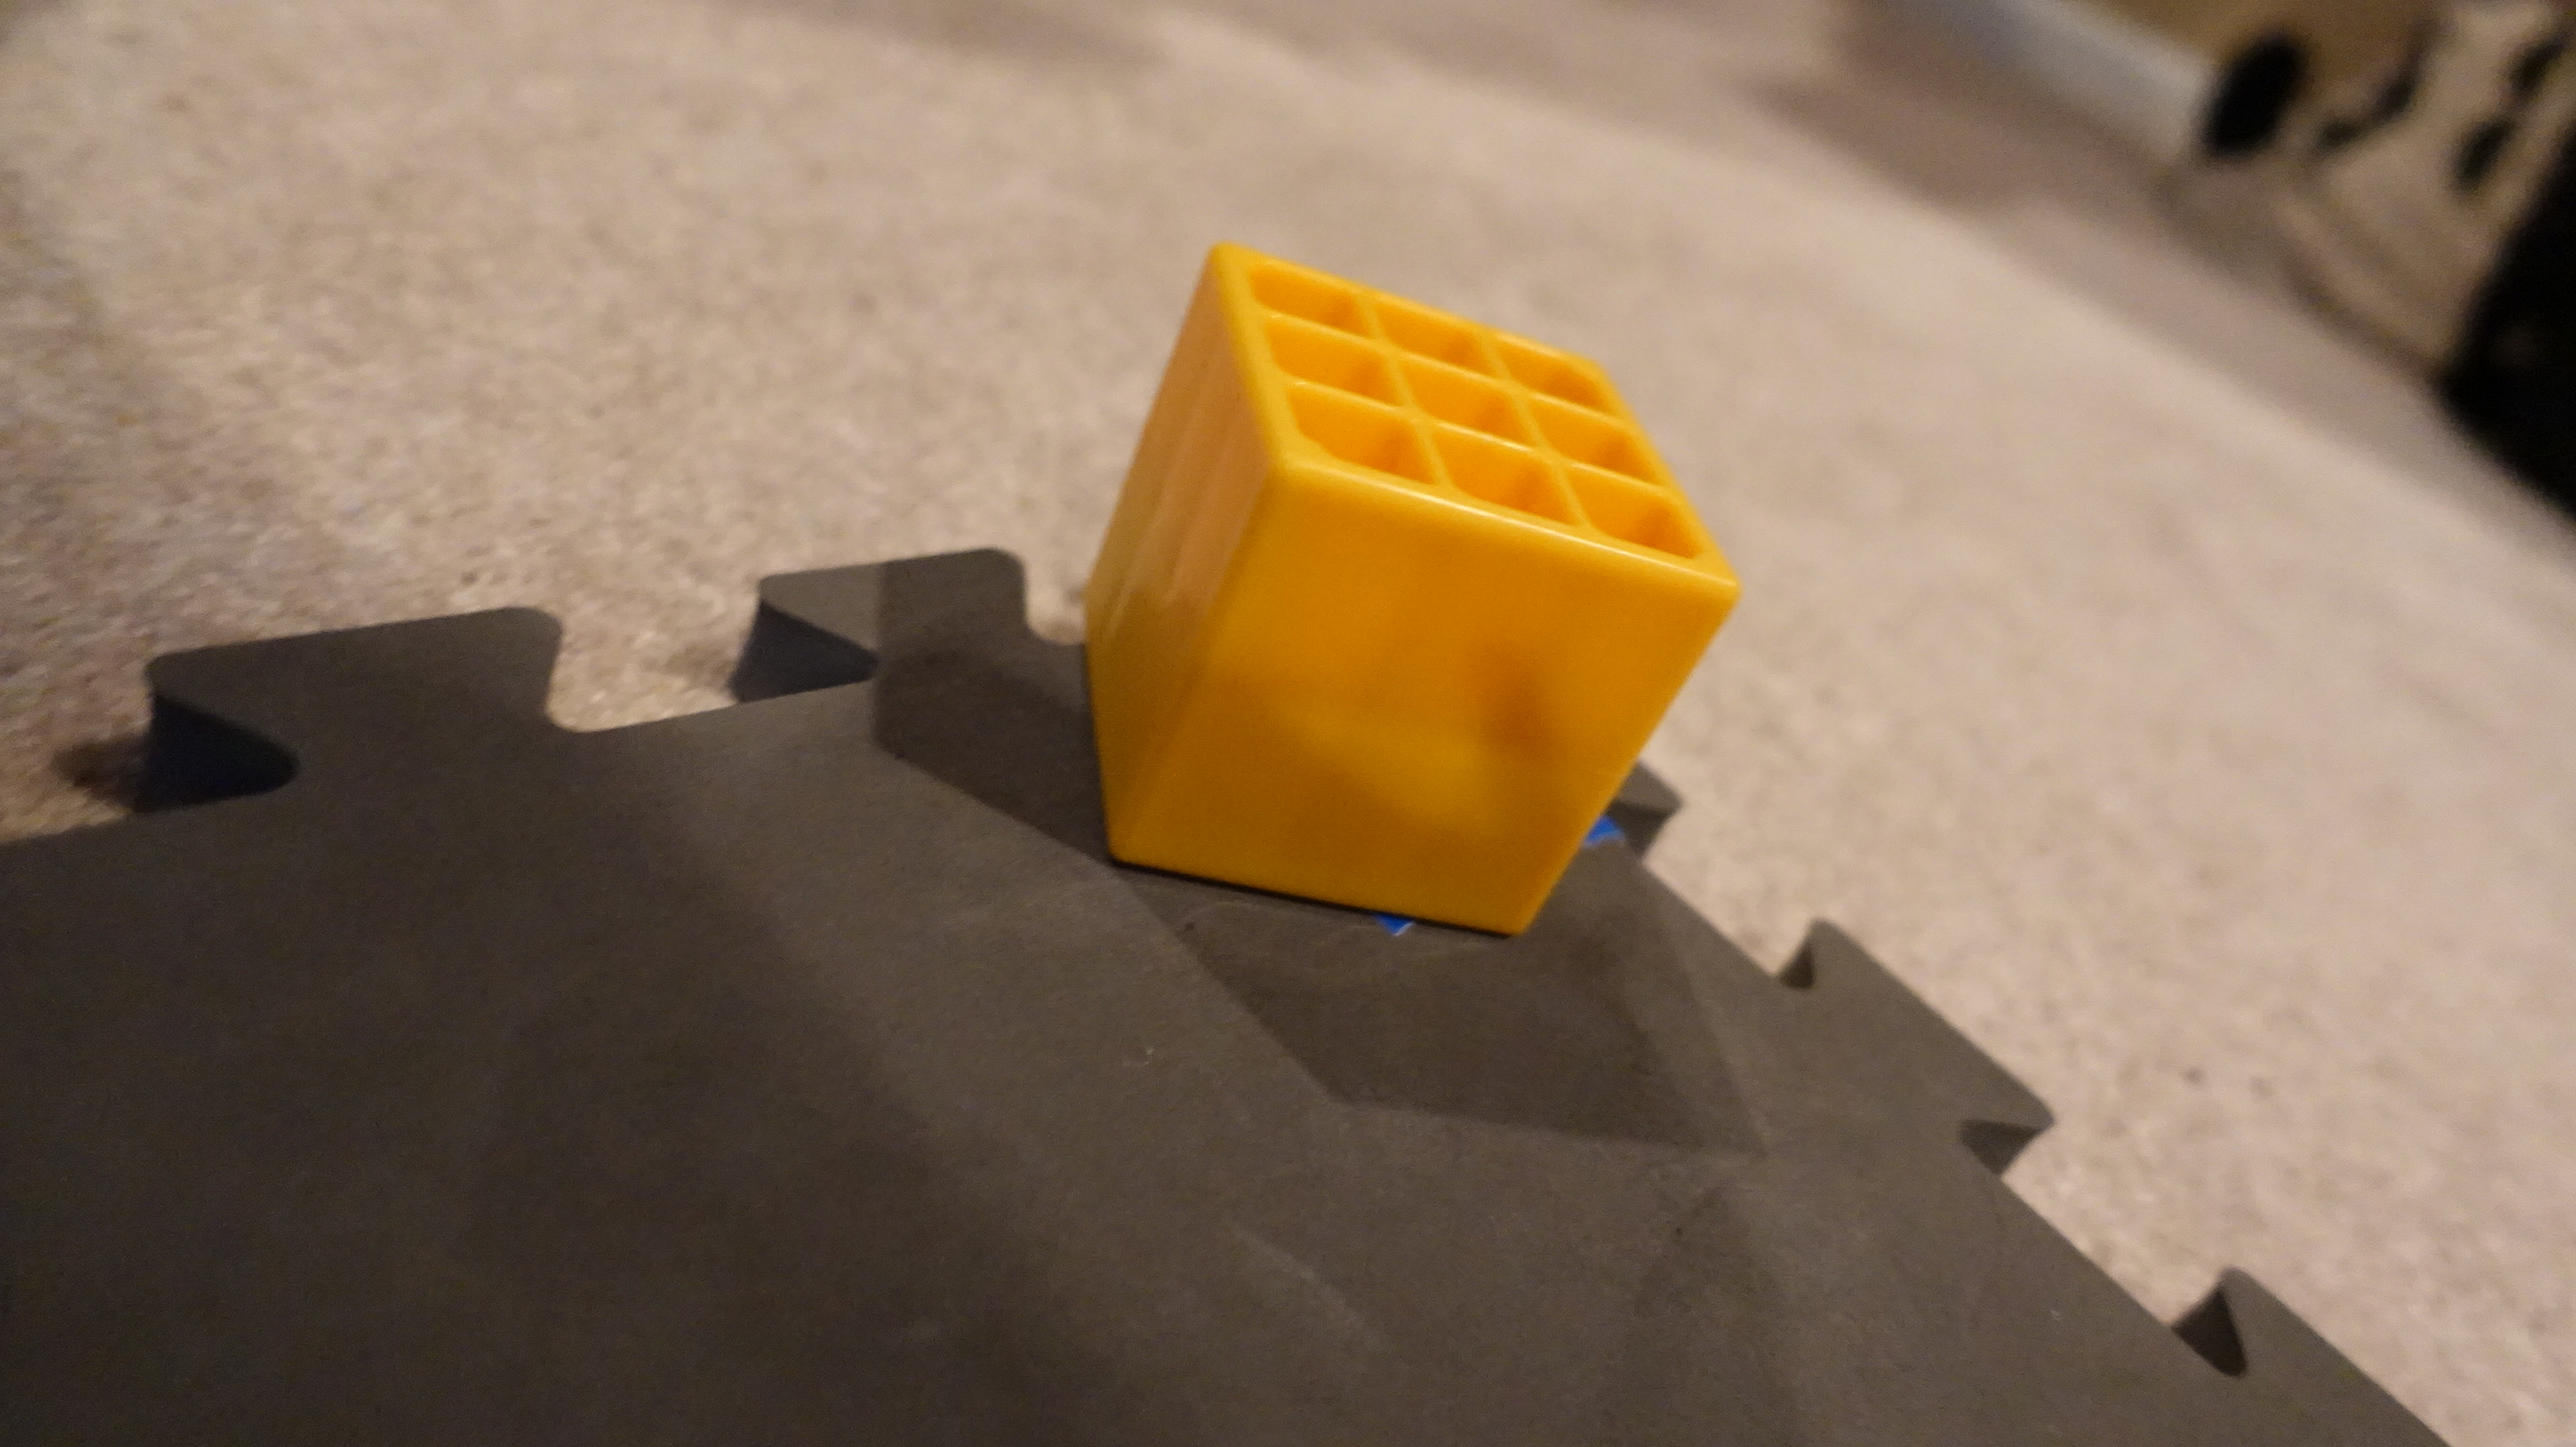gold: (1076, 237, 1748, 941)
